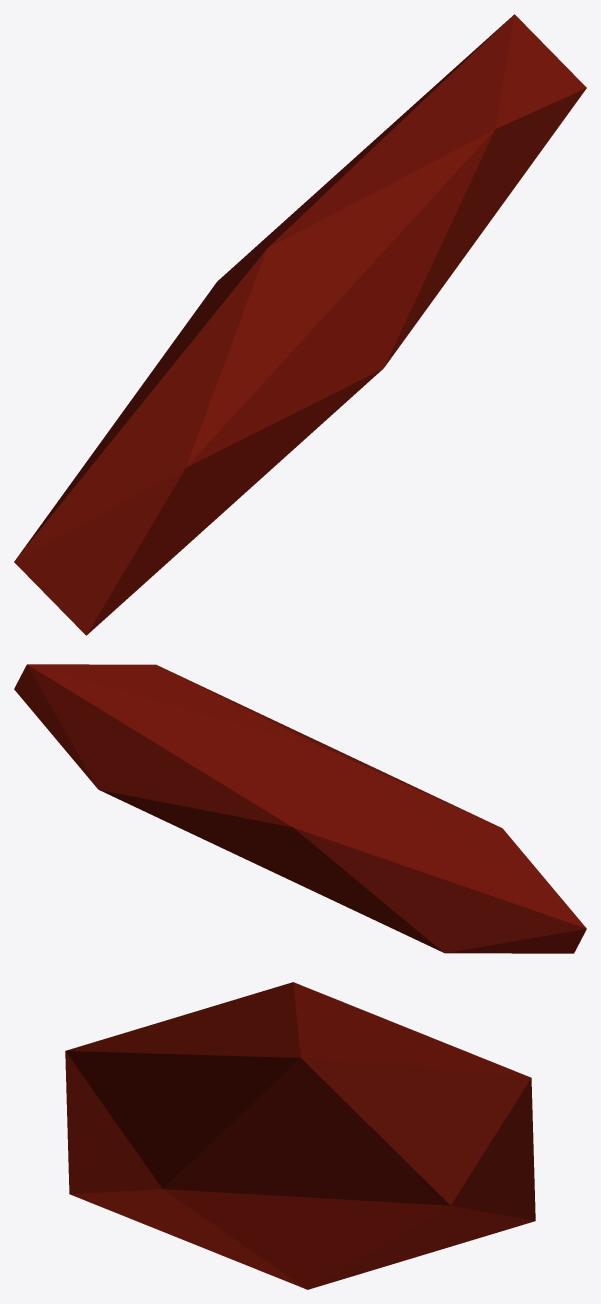
File: Platonic_20.gltf
3 renders of one model, top to bottom at view 1: azimuth 30°, elevation 25°; view 2: azimuth 150°, elevation 25°; view 3: azimuth 270°, elevation 25°, orthographic. The views are drawn at different scales.
Parts seen in each view (by area): view 1: Platonic_20; view 2: Platonic_20; view 3: Platonic_20.
Part boxes in pixels (box(x1,y1,x2,y2)): Platonic_20: box(14, 14, 586, 635); Platonic_20: box(14, 664, 586, 953); Platonic_20: box(65, 982, 535, 1289).
Size of the model in its own units: 41.82 by 21.58 by 17.11.
